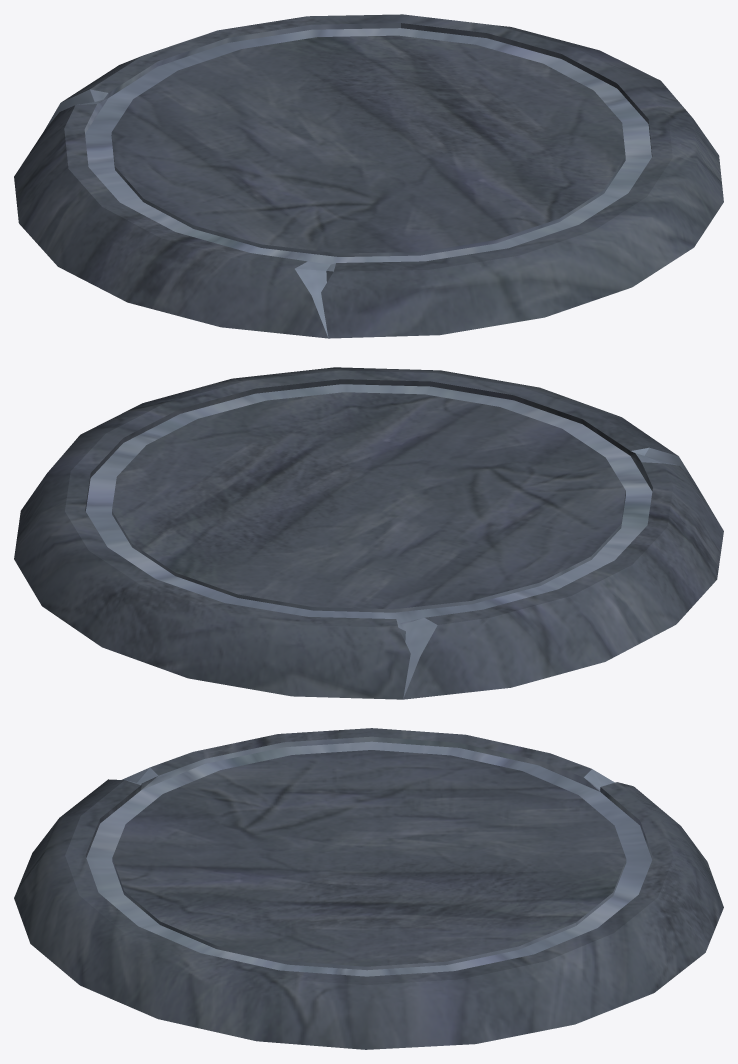
Rendered from s0_NPC_Stand__4__01.glb.
3 views of the same model, one above another, from view 1: azimuth 30°, elevation 25°; view 2: azimuth 150°, elevation 25°; view 3: azimuth 270°, elevation 25° (orthographic).
Parts seen in each view (by area): view 1: node_NPC_Stand (4); view 2: node_NPC_Stand (4); view 3: node_NPC_Stand (4).
Part boxes in pixels (bbox=[...]): node_NPC_Stand (4): bbox=[14, 14, 723, 338]; node_NPC_Stand (4): bbox=[14, 367, 723, 699]; node_NPC_Stand (4): bbox=[14, 728, 723, 1049].
Size of the model in its own units: 3.09 by 0.2429 by 3.09.
2 materials, 2 textured.
